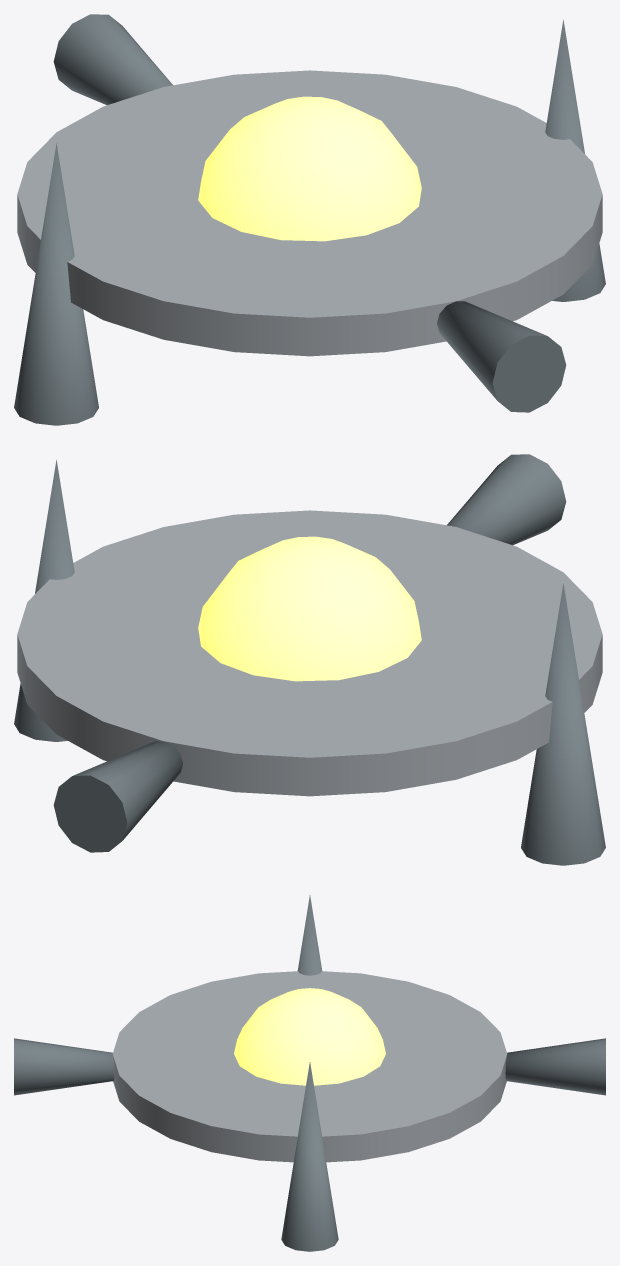
The model's file is title_emblem.glb.
The picture shows the model from 3 angles, top to bottom: view 1: azimuth 30°, elevation 25°; view 2: azimuth 150°, elevation 25°; view 3: azimuth 270°, elevation 25°; orthographic projection. The views are drawn at different scales.
Visible parts, largest first — view 1: Ring, Core, W, S, N, E; view 2: Ring, Core, W, N, S, E; view 3: Ring, Core, E, N, S, W.
Boxes of the visible parts, x1,y1,x2,y2 form: Ring: [17, 70, 602, 356]; Core: [198, 96, 421, 241]; W: [14, 143, 98, 425]; S: [437, 301, 566, 412]; N: [53, 14, 172, 105]; E: [545, 19, 605, 301]; Ring: [17, 510, 602, 796]; Core: [198, 536, 421, 681]; W: [521, 583, 605, 865]; N: [53, 741, 182, 852]; S: [447, 454, 566, 545]; E: [14, 459, 74, 741]; Ring: [112, 971, 507, 1162]; Core: [234, 988, 385, 1085]; E: [281, 1062, 338, 1251]; N: [505, 1038, 605, 1095]; S: [14, 1038, 114, 1095]; W: [297, 895, 322, 975].
Size of the model in its own units: 1.26 by 0.55 by 1.65.
